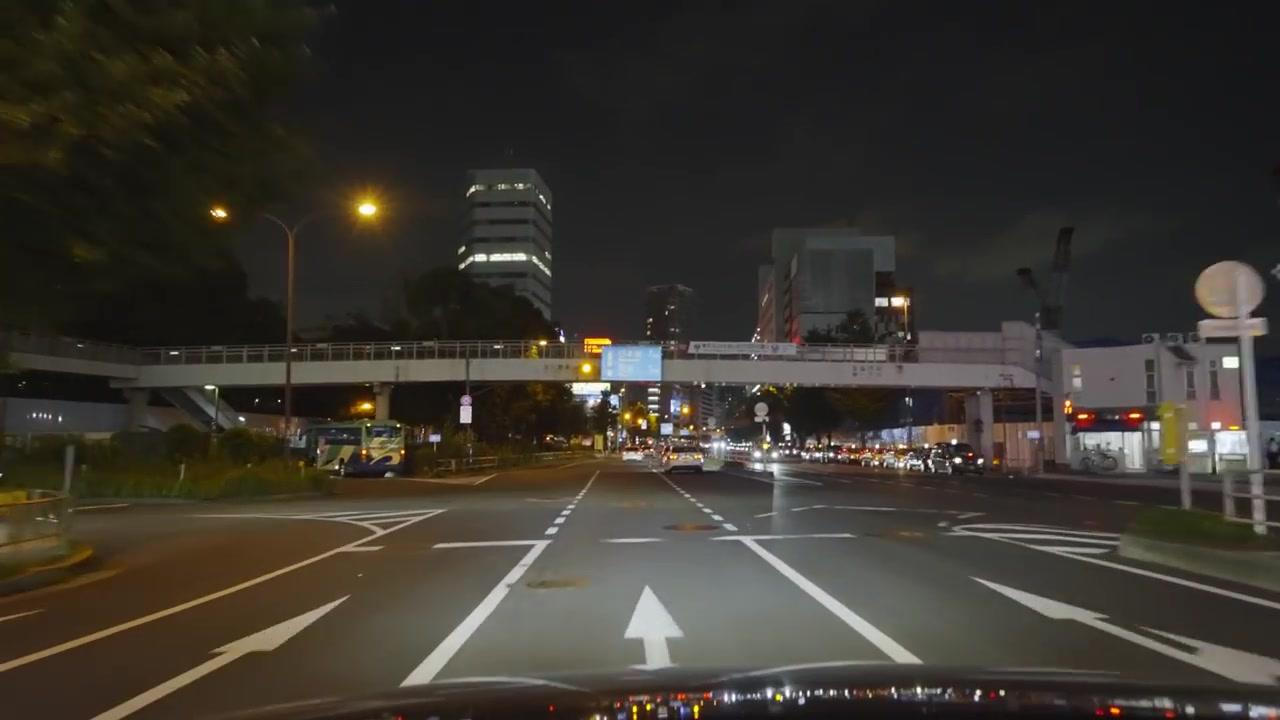bus: (308, 420, 406, 477)
car: (944, 441, 984, 475), (664, 450, 706, 474), (622, 450, 648, 463)
traffic light: (1062, 395, 1075, 428)
